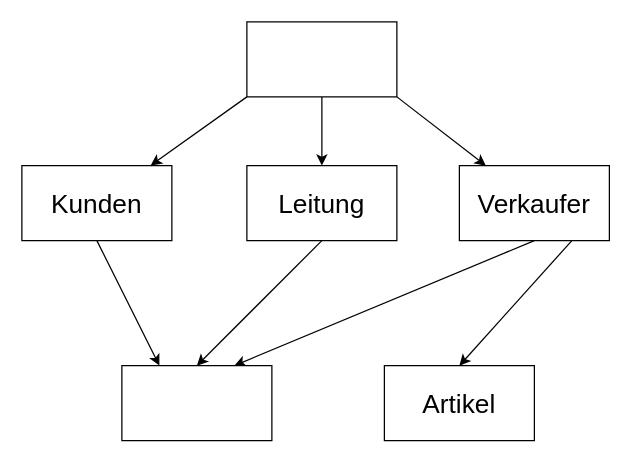
The diagram is 631 pixels wide and 463 high, and some of its shapes have lost their labels. The centre of each missing label's shape, as x and y in pixels:
Bestellung: point (196, 402)
Laden: point (321, 59)
